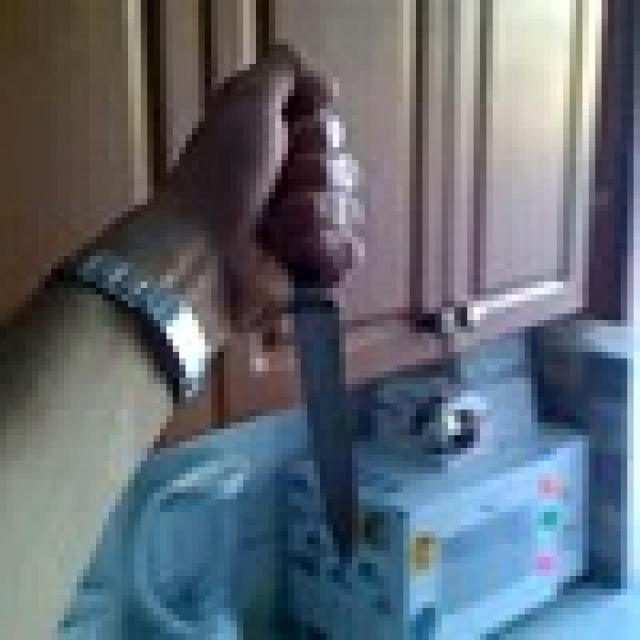knife: (237, 70, 378, 557)
